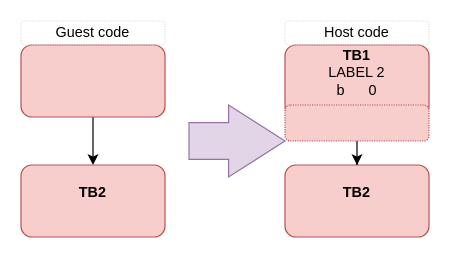
Some shapes in this 450 by 258 pixel diagram are drawn without their labels. The centre of each missing label's shape, as x and y in pixels:
tb-exit: the point at 356,122
TB1 jmp 0x4029f4: the point at 92,80
